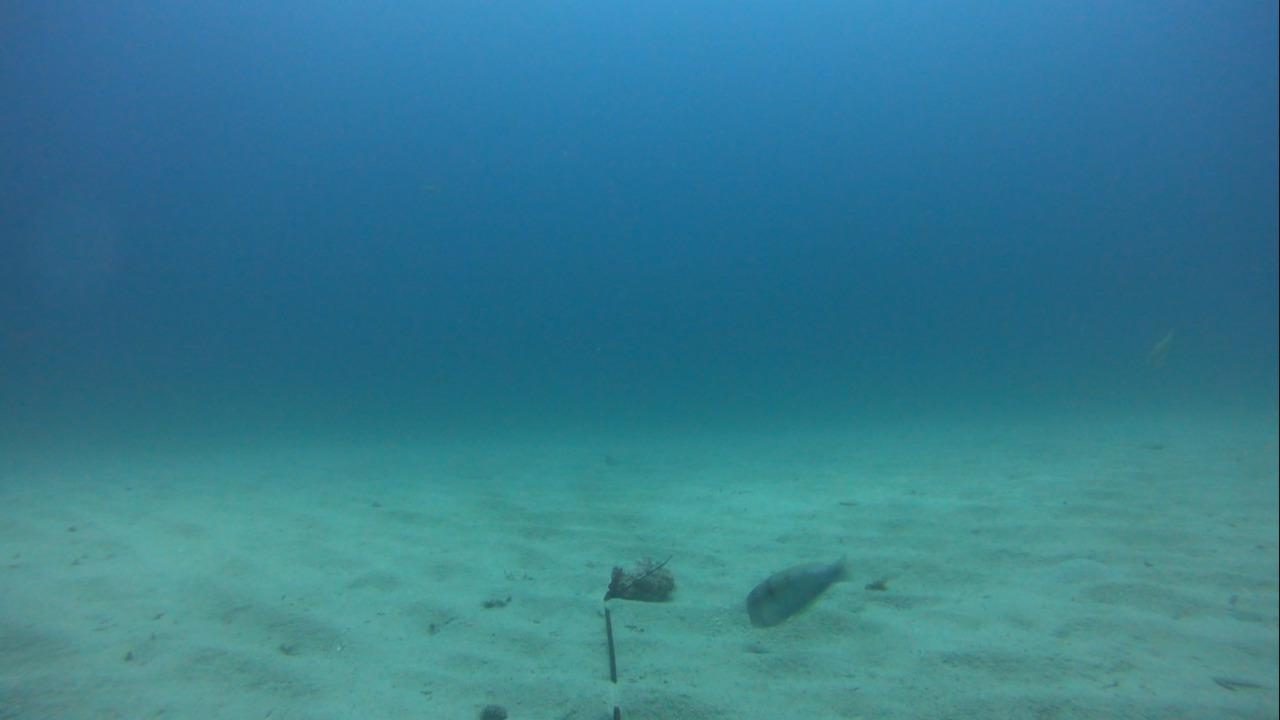raor: (739, 556, 855, 629)
